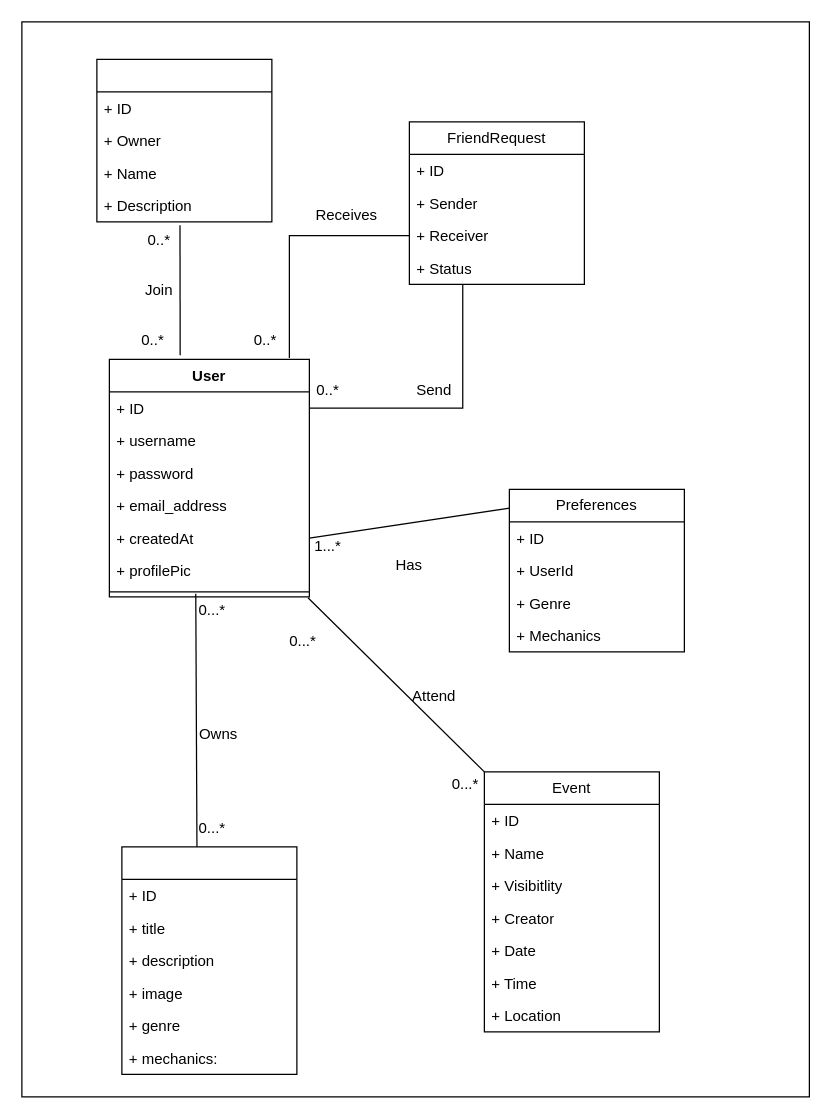
The diagram is 831 pixels wide and 1119 high, and some of its shapes have lost their labels. The shapes that lost their labels are listed below. From the top down, each one's box as (x1, y1, x2, y2) in pixels, then its label:
(96, 58, 272, 222): Group
(121, 846, 297, 1074): Boardgame
